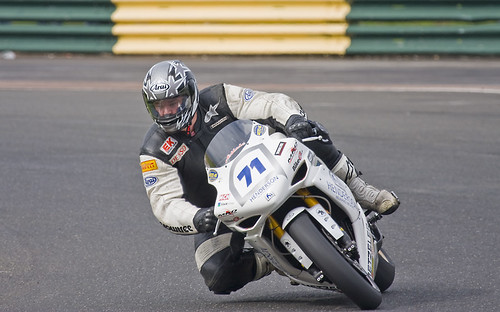helmet: (138, 63, 205, 139)
